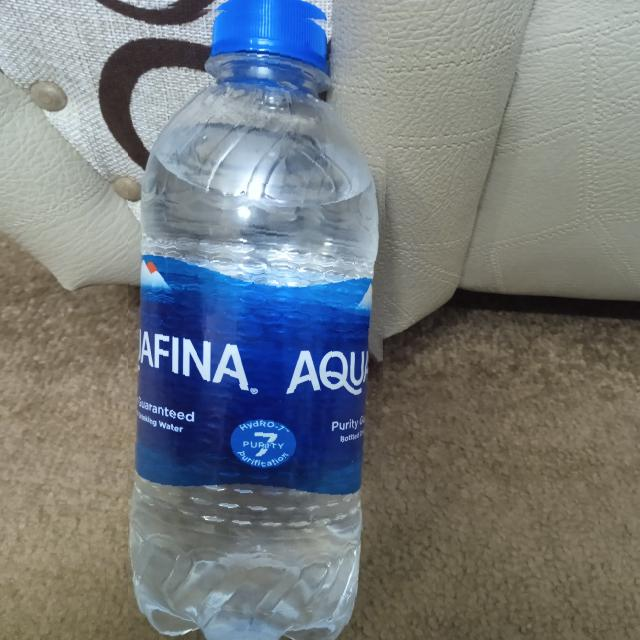Plastic: (128, 2, 388, 640)
